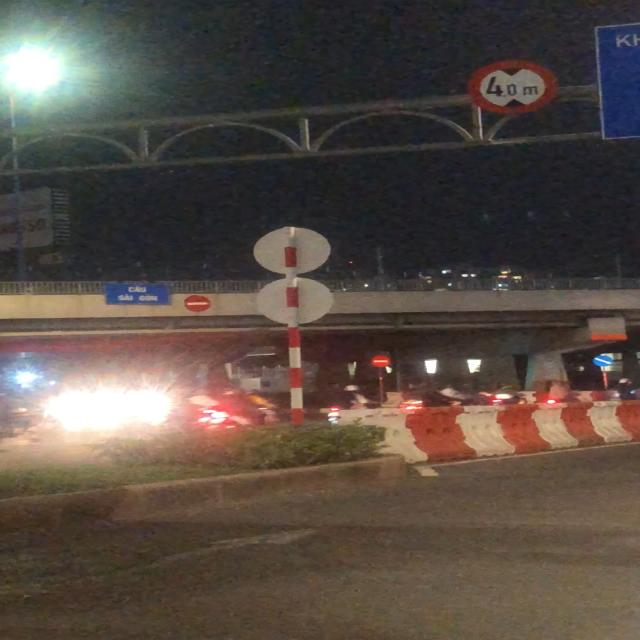Bien bao cam di nguoc chieu: (181, 293, 215, 315), (368, 353, 393, 368)
Bien bao han che chieu cao: (463, 58, 562, 115)
Bien bao huong phai di vong chuong ngai vat: (592, 354, 616, 368)
